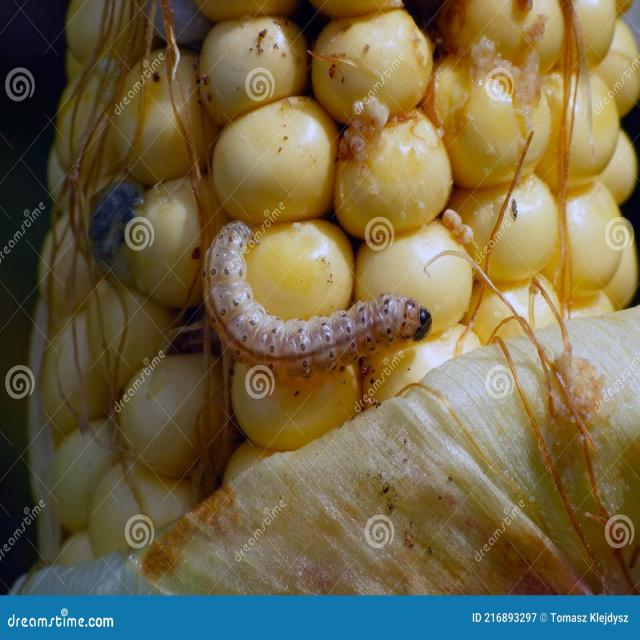cornborer-Larva-: (194, 203, 443, 379)
